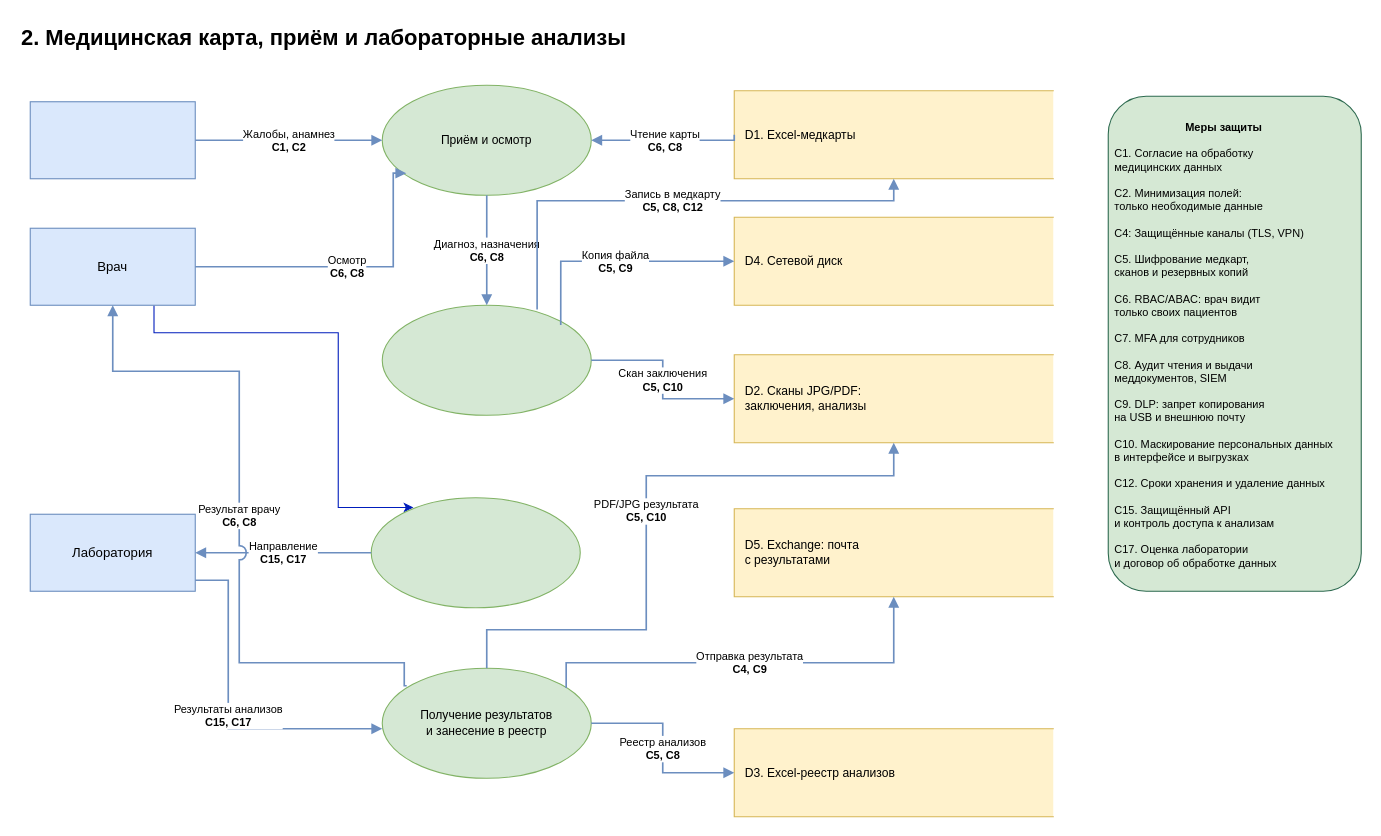
The diagram is 1381 pixels wide and 836 high, and some of its shapes have lost their labels. The shapes that lost their labels are listed below. From the top down, each one's box as (x1, y1, x2, y2) in pixels, then its label:
(29, 101, 195, 179): Пациент
(381, 304, 591, 415): Ведение медкарты и заключения
(370, 497, 580, 608): Направление и передача в лабораторию
